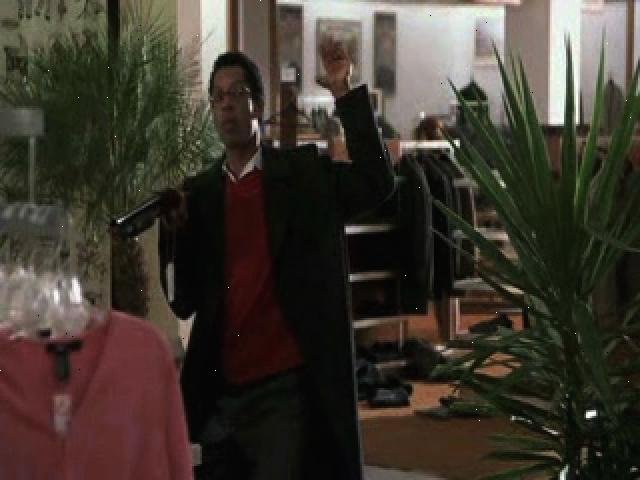L: (110, 40, 398, 478)
